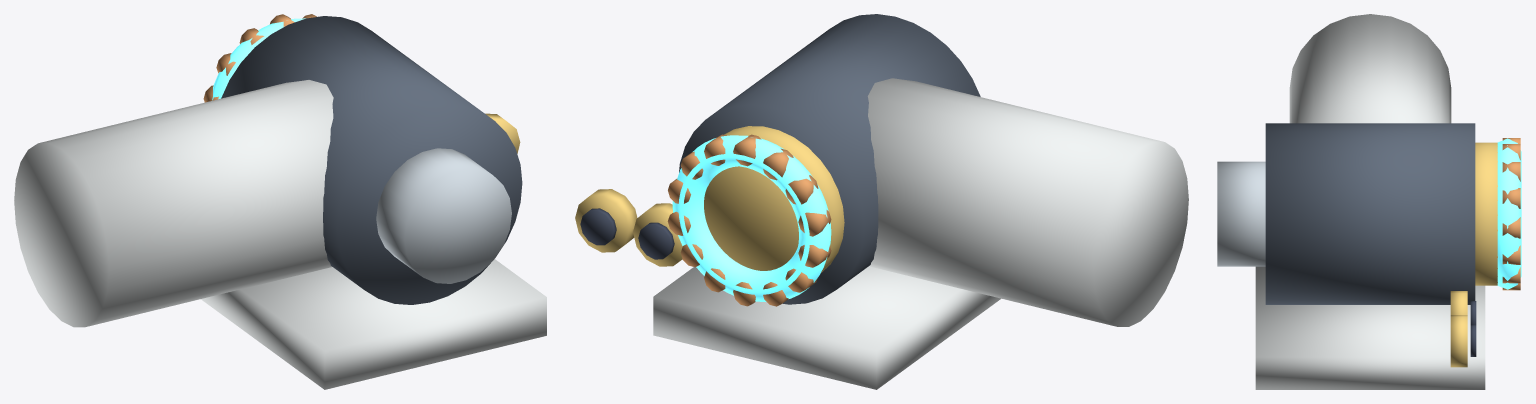
Rendered from L86_14_RobotJoint7WristRoll_Fitted.fbx.
The picture shows the model from 3 angles, left to right: view 1: azimuth 30°, elevation 25°; view 2: azimuth 150°, elevation 25°; view 3: azimuth 270°, elevation 25°; orthographic projection. The views are drawn at different scales.
Parts seen in each view (by area): view 1: L86_RobotJoint7WristRoll_ANIM_ROBOT_WRIST_ROLL__tintD9E0E0, L86_RobotJoint7WristRoll_ANIM_ROBOT_WRIST_ROLL__tint1F2633, L86_RobotJoint7WristRoll_ANIM_ROBOT_WRIST_ROLL__tintA1B2C2, L86_RobotJoint7WristRoll_ANIM_ROBOT_WRIST_ROLL__tint29D4F5, L86_RobotJoint7WristRoll_ANIM_ROBOT_WRIST_ROLL__tintD46326; view 2: L86_RobotJoint7WristRoll_ANIM_ROBOT_WRIST_ROLL__tintD9E0E0, L86_RobotJoint7WristRoll_ANIM_ROBOT_WRIST_ROLL__tint1F2633, L86_RobotJoint7WristRoll_ANIM_ROBOT_WRIST_ROLL__tintF2B038, L86_RobotJoint7WristRoll_ANIM_ROBOT_WRIST_ROLL__tint29D4F5, L86_RobotJoint7WristRoll_ANIM_ROBOT_WRIST_ROLL__tintD46326, L86_RobotJoint7WristRoll_Static__tintF2B038, L86_RobotJoint7WristRoll_Static__tint0F141F; view 3: L86_RobotJoint7WristRoll_ANIM_ROBOT_WRIST_ROLL__tint1F2633, L86_RobotJoint7WristRoll_ANIM_ROBOT_WRIST_ROLL__tintD9E0E0, L86_RobotJoint7WristRoll_ANIM_ROBOT_WRIST_ROLL__tintA1B2C2, L86_RobotJoint7WristRoll_ANIM_ROBOT_WRIST_ROLL__tintF2B038, L86_RobotJoint7WristRoll_ANIM_ROBOT_WRIST_ROLL__tint29D4F5, L86_RobotJoint7WristRoll_ANIM_ROBOT_WRIST_ROLL__tintD46326, L86_RobotJoint7WristRoll_Static__tintF2B038, L86_RobotJoint7WristRoll_Static__tint0F141F.
Part boxes in pixels (<box>): L86_RobotJoint7WristRoll_ANIM_ROBOT_WRIST_ROLL__tintD9E0E0: <box>14,80,546,389</box>; L86_RobotJoint7WristRoll_ANIM_ROBOT_WRIST_ROLL__tint1F2633: <box>221,16,522,304</box>; L86_RobotJoint7WristRoll_ANIM_ROBOT_WRIST_ROLL__tintA1B2C2: <box>376,148,511,283</box>; L86_RobotJoint7WristRoll_ANIM_ROBOT_WRIST_ROLL__tint29D4F5: <box>212,18,305,100</box>; L86_RobotJoint7WristRoll_ANIM_ROBOT_WRIST_ROLL__tintD46326: <box>203,14,316,102</box>; L86_RobotJoint7WristRoll_ANIM_ROBOT_WRIST_ROLL__tintD9E0E0: <box>653,78,1188,389</box>; L86_RobotJoint7WristRoll_ANIM_ROBOT_WRIST_ROLL__tint1F2633: <box>679,14,980,304</box>; L86_RobotJoint7WristRoll_ANIM_ROBOT_WRIST_ROLL__tintF2B038: <box>704,126,844,272</box>; L86_RobotJoint7WristRoll_ANIM_ROBOT_WRIST_ROLL__tint29D4F5: <box>672,135,831,301</box>; L86_RobotJoint7WristRoll_ANIM_ROBOT_WRIST_ROLL__tintD46326: <box>667,134,831,306</box>; L86_RobotJoint7WristRoll_Static__tintF2B038: <box>575,189,682,266</box>; L86_RobotJoint7WristRoll_Static__tint0F141F: <box>580,208,674,259</box>; L86_RobotJoint7WristRoll_ANIM_ROBOT_WRIST_ROLL__tint1F2633: <box>1265,123,1475,304</box>; L86_RobotJoint7WristRoll_ANIM_ROBOT_WRIST_ROLL__tintD9E0E0: <box>1255,14,1485,389</box>; L86_RobotJoint7WristRoll_ANIM_ROBOT_WRIST_ROLL__tintA1B2C2: <box>1217,161,1265,266</box>; L86_RobotJoint7WristRoll_ANIM_ROBOT_WRIST_ROLL__tintF2B038: <box>1475,142,1497,285</box>; L86_RobotJoint7WristRoll_ANIM_ROBOT_WRIST_ROLL__tint29D4F5: <box>1497,138,1521,289</box>; L86_RobotJoint7WristRoll_ANIM_ROBOT_WRIST_ROLL__tintD46326: <box>1502,138,1520,290</box>; L86_RobotJoint7WristRoll_Static__tintF2B038: <box>1450,291,1467,367</box>; L86_RobotJoint7WristRoll_Static__tint0F141F: <box>1470,301,1476,356</box>.
Size of the model in its own units: 11.81 by 5.57 by 7.25.
